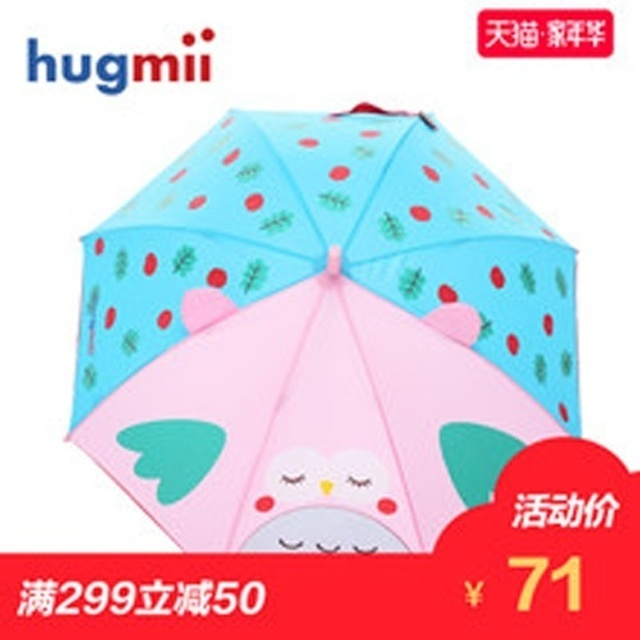umbrella: (62, 99, 582, 556)
